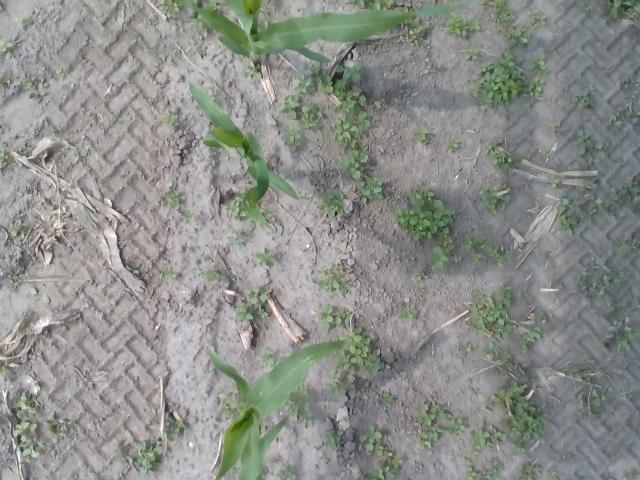Maize: (186, 82, 317, 233), (207, 339, 347, 480), (179, 0, 475, 65)
Weeds: (492, 376, 550, 442), (390, 186, 456, 242), (331, 62, 371, 150), (468, 51, 528, 108), (470, 285, 522, 341), (335, 326, 380, 378), (284, 382, 314, 430), (12, 421, 44, 463), (469, 422, 506, 458), (234, 286, 269, 322), (368, 444, 402, 480), (316, 262, 350, 296), (556, 195, 584, 236), (572, 129, 602, 165), (588, 271, 630, 296), (478, 184, 512, 214), (133, 440, 163, 474), (606, 320, 637, 352), (314, 304, 350, 331), (426, 237, 454, 271), (339, 150, 369, 180), (12, 391, 44, 419), (498, 23, 532, 49), (414, 401, 446, 428), (217, 388, 243, 421), (309, 59, 334, 93), (496, 345, 518, 381), (226, 192, 252, 222), (605, 0, 640, 22), (326, 372, 356, 396), (484, 0, 516, 22), (402, 18, 428, 45), (358, 423, 382, 452), (492, 151, 522, 174), (318, 190, 344, 216), (358, 176, 383, 203), (518, 326, 542, 354), (564, 90, 597, 110), (566, 359, 596, 381), (444, 12, 469, 38), (22, 76, 46, 103), (276, 93, 300, 120), (482, 240, 509, 264), (298, 104, 322, 130), (344, 0, 394, 12), (416, 426, 441, 450), (45, 411, 68, 436), (280, 125, 302, 150), (255, 346, 280, 368), (484, 456, 506, 480), (198, 264, 224, 284), (515, 462, 543, 480), (0, 147, 15, 179), (111, 445, 132, 466), (529, 54, 550, 75), (294, 74, 316, 94), (576, 262, 596, 284), (527, 76, 546, 99), (157, 0, 180, 19), (586, 198, 604, 222), (165, 416, 182, 441), (590, 389, 614, 406), (256, 248, 276, 268), (28, 286, 50, 304), (444, 418, 466, 436), (227, 230, 250, 247), (462, 235, 486, 251), (161, 186, 180, 206), (529, 8, 547, 29), (606, 240, 629, 256), (323, 431, 342, 450), (411, 127, 431, 145), (242, 60, 262, 78), (66, 148, 88, 164), (484, 138, 504, 155), (0, 33, 13, 58), (630, 176, 640, 207), (180, 208, 197, 226), (161, 265, 178, 282), (190, 12, 208, 28), (278, 464, 296, 480), (547, 122, 567, 136), (397, 307, 417, 321), (608, 185, 626, 200), (576, 180, 598, 192), (608, 299, 628, 312), (202, 0, 224, 11), (430, 57, 446, 72), (548, 172, 562, 188), (7, 222, 23, 236), (466, 466, 482, 480), (162, 114, 180, 126), (446, 138, 461, 152), (609, 114, 624, 128), (15, 13, 30, 27), (465, 47, 479, 61), (580, 0, 596, 12), (6, 273, 20, 286), (254, 19, 268, 32), (458, 343, 471, 357), (625, 468, 640, 480), (229, 463, 241, 478), (0, 72, 11, 88), (483, 340, 494, 356), (626, 106, 640, 118), (382, 392, 394, 406), (470, 252, 482, 266), (577, 410, 590, 422), (512, 442, 526, 453), (260, 208, 272, 220), (126, 265, 140, 275), (632, 235, 640, 251), (621, 76, 631, 88), (470, 20, 480, 32), (538, 310, 548, 322), (541, 147, 551, 158), (549, 469, 559, 480), (21, 145, 31, 155), (414, 271, 425, 280), (562, 451, 572, 460), (462, 456, 472, 464), (346, 474, 359, 480), (0, 365, 6, 376), (417, 285, 425, 292), (484, 406, 491, 414), (0, 116, 5, 127), (0, 0, 5, 11), (210, 88, 218, 94), (118, 117, 124, 124), (432, 366, 438, 373), (54, 128, 62, 133), (467, 179, 473, 185), (56, 70, 63, 74), (152, 190, 158, 194)
